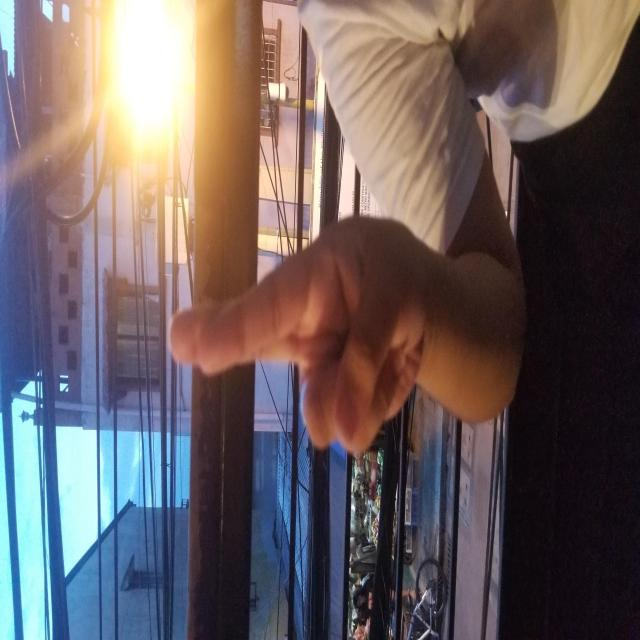R: (185, 165, 426, 431)
